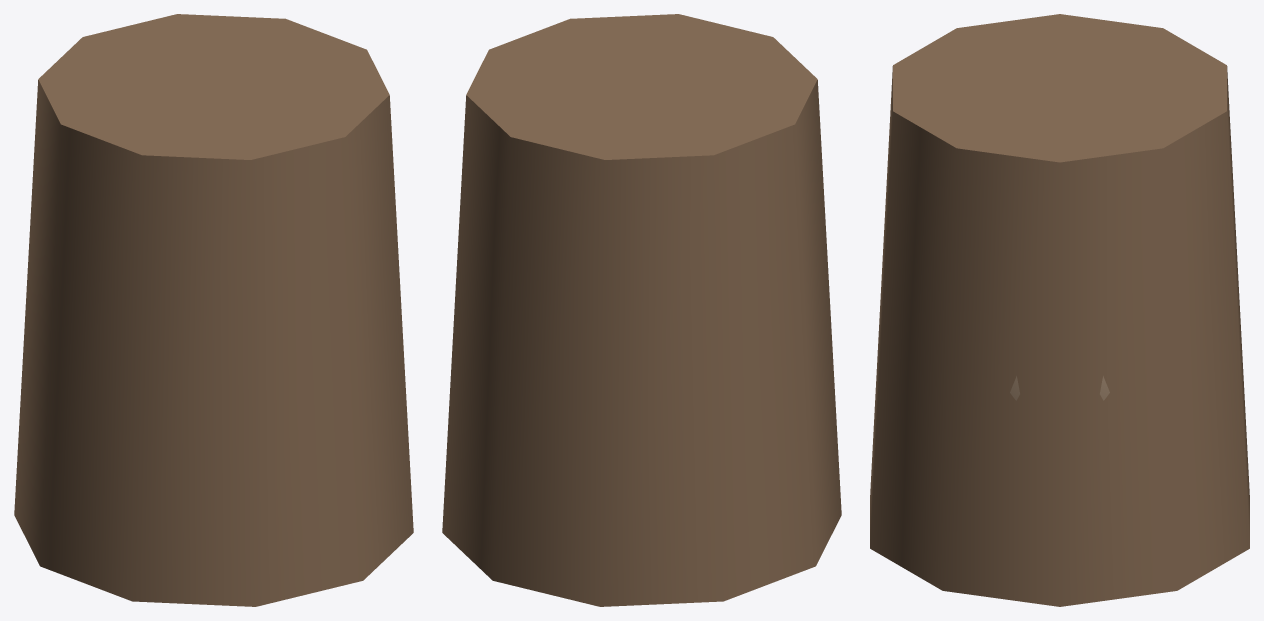
The model's file is MacaqueBody.glb.
The picture shows the model from 3 angles, left to right: view 1: azimuth 30°, elevation 25°; view 2: azimuth 150°, elevation 25°; view 3: azimuth 270°, elevation 25°; orthographic projection.
Parts seen in each view (by area): view 1: MacaqueBody; view 2: MacaqueBody; view 3: MacaqueBody.
Boxes of the visible parts, x1=… form: MacaqueBody: x1=14, y1=14, x2=413, y2=606; MacaqueBody: x1=442, y1=14, x2=841, y2=606; MacaqueBody: x1=870, y1=14, x2=1249, y2=606.
Bounding box in the file's own units: 0.25 × 0.3 × 0.2378.
